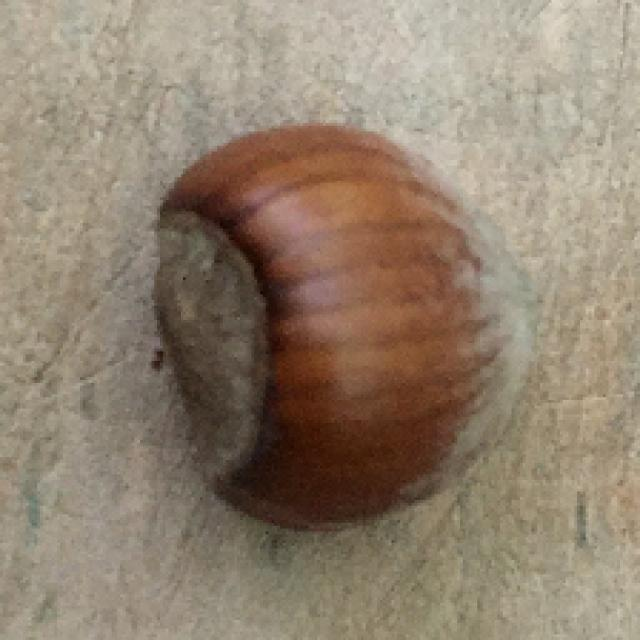QualityHazelnut: (147, 122, 538, 538)
